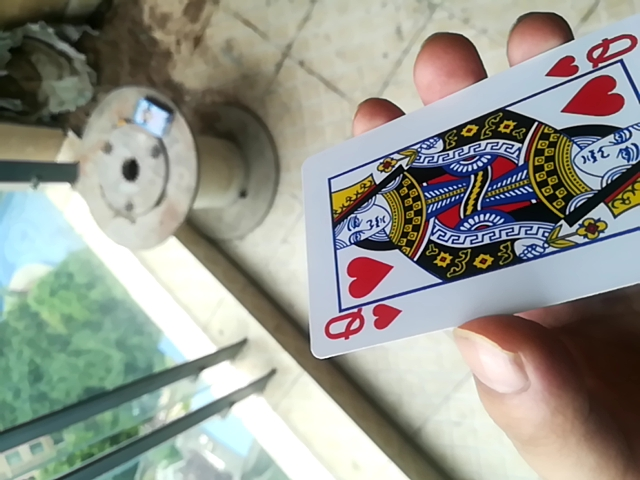hx q: (298, 24, 640, 364)
